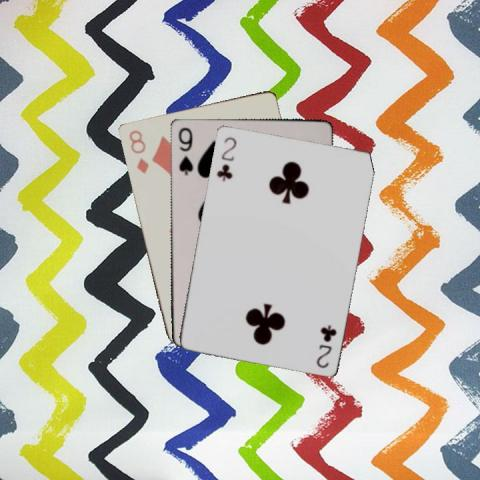2c: (213, 133, 238, 183), (313, 322, 338, 370)
8d: (125, 126, 150, 174)
9s: (175, 125, 194, 176)
